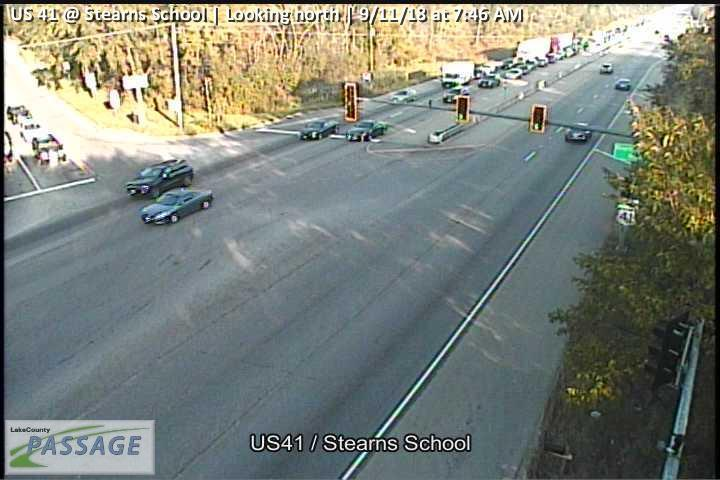SUV: (125, 158, 199, 199), (31, 133, 68, 165), (19, 120, 45, 146), (6, 103, 33, 124)
Sedan: (137, 185, 215, 226), (298, 117, 341, 141), (346, 119, 389, 143), (439, 60, 475, 85), (441, 84, 472, 103), (565, 122, 592, 143), (390, 87, 417, 105), (478, 74, 501, 88), (615, 77, 632, 90), (505, 68, 522, 79), (599, 62, 613, 74)
Truck: (516, 30, 577, 63)
